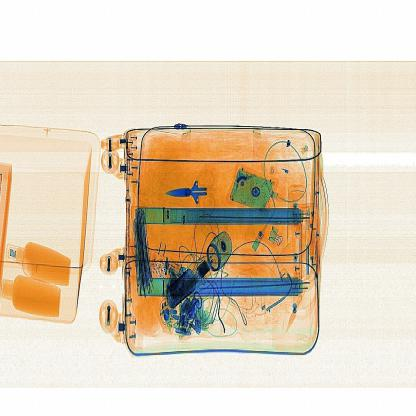gun: (165, 165, 227, 226)
